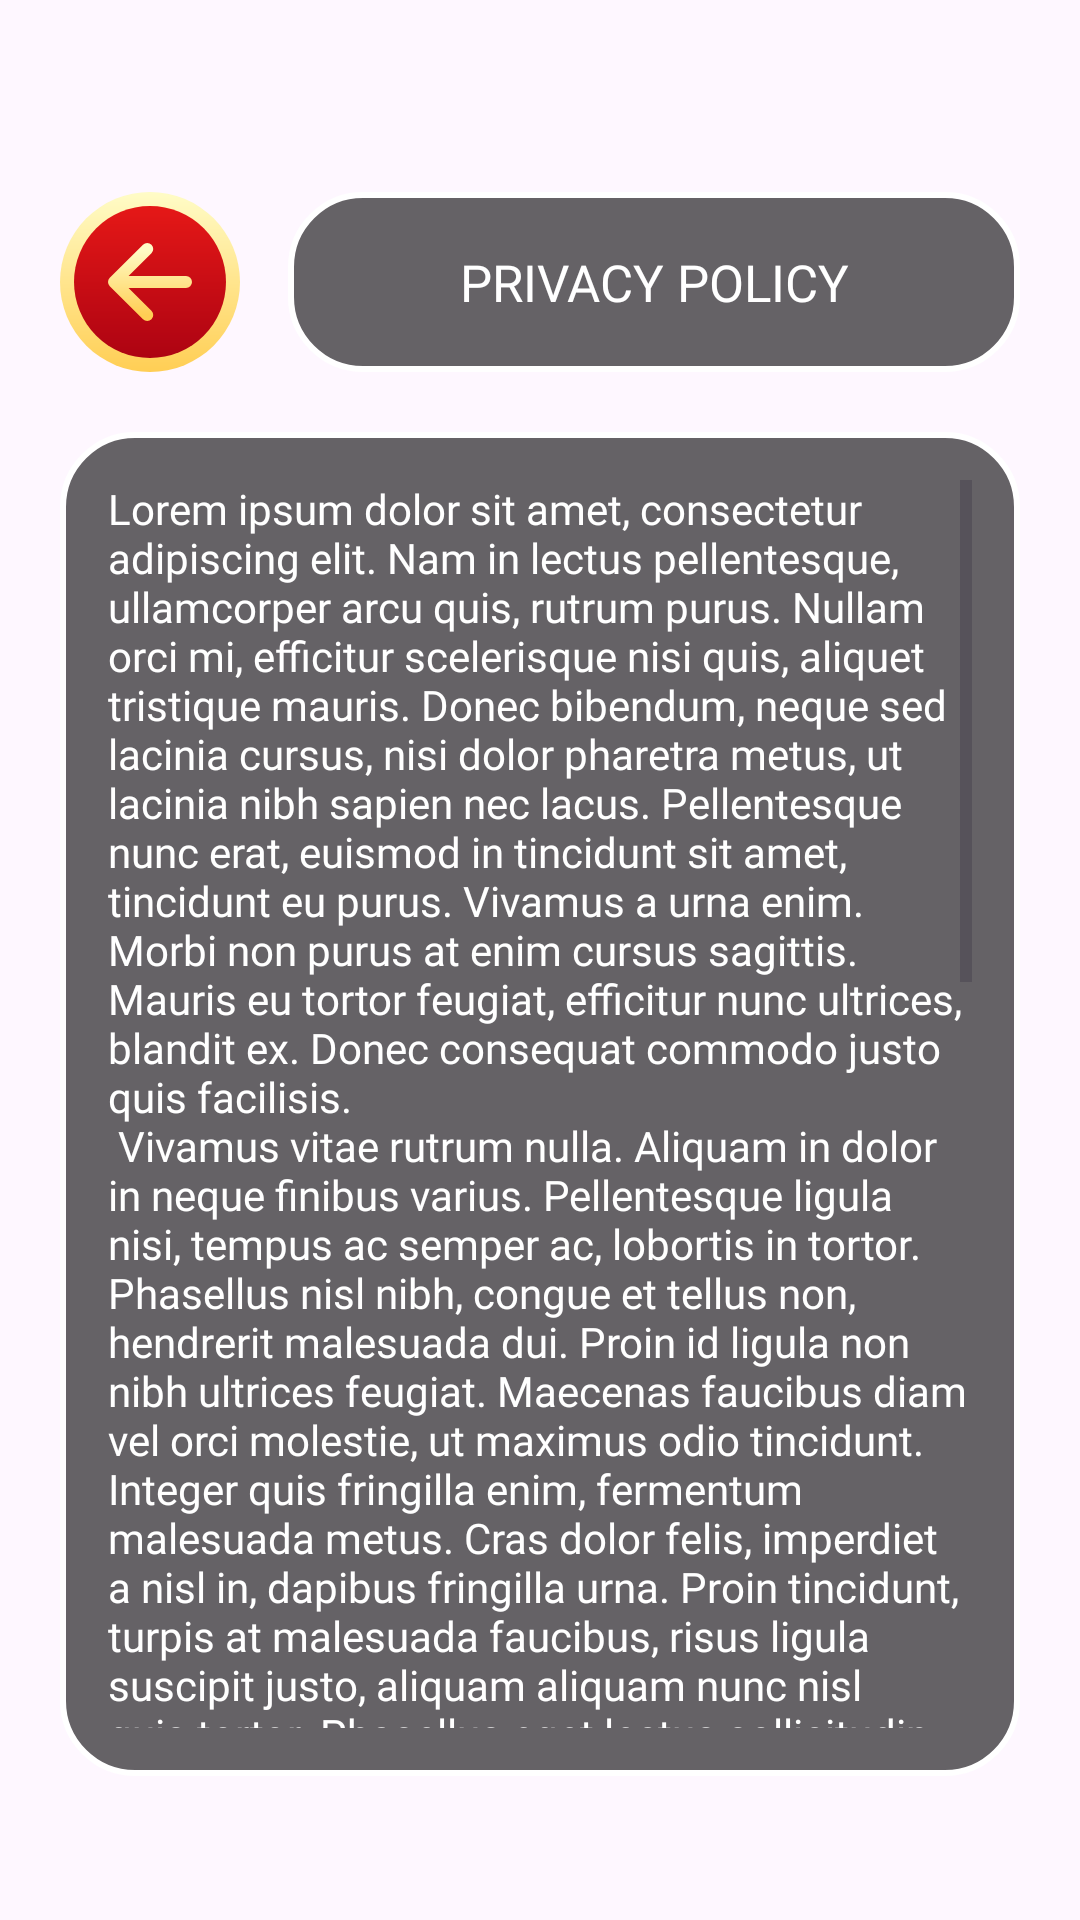

Named icons in this screenshot (1080px×1920px) and their centers, point (x, y):
back: point (150, 282)
